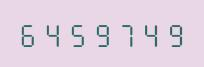five: (65, 20, 88, 47)
four: (41, 20, 64, 47), (137, 20, 160, 47)
nine: (89, 20, 112, 47), (161, 20, 184, 47)
seven: (113, 20, 136, 47)
six: (17, 20, 40, 47)
